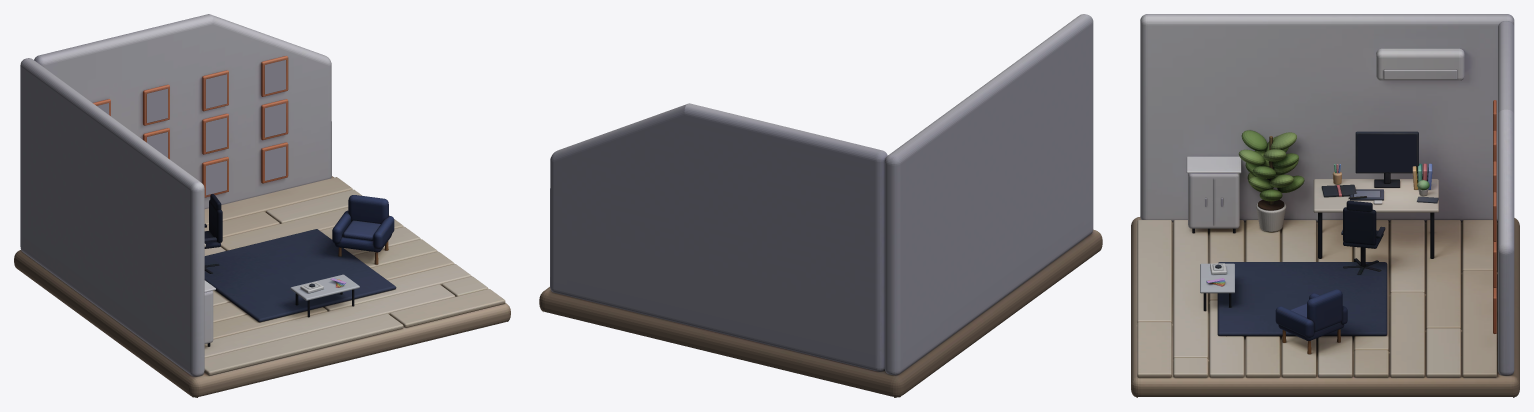
Rendered from diorama.glb.
3 renders of one model, left to right at view 1: azimuth 30°, elevation 25°; view 2: azimuth 150°, elevation 25°; view 3: azimuth 270°, elevation 25°, orthographic. The views are drawn at different scales.
Visible parts, largest first — view 1: wall_l, wall_b, skirt, rug, plank_8_0, plank_9_0, plank_0_1, plank_9_1, plank_2_1, plank_7_1, plank_1_1, plank_6_1 (+20 smaller); view 2: wall_b, wall_l, skirt; view 3: wall_l, skirt, rug, wall_b, plank_8_0, plank_1_0, plank_0_1, plank_9_0, plank_2_1, cab_body, desk_top, plank_2_0 (+28 smaller).
Boxes of the visible parts, x1,y1,x2,y2 form: wall_l: (20, 58, 204, 376); wall_b: (34, 14, 331, 208); skirt: (14, 176, 510, 397); rug: (204, 229, 396, 322); plank_8_0: (204, 284, 455, 357); plank_9_0: (204, 313, 403, 375); plank_0_1: (204, 177, 352, 224); plank_9_1: (389, 289, 505, 327); plank_2_1: (220, 207, 348, 250); plank_7_1: (323, 264, 471, 311); plank_1_1: (266, 189, 362, 223); plank_6_1: (371, 251, 454, 280); wall_b: (550, 103, 887, 371); wall_l: (884, 14, 1093, 375); skirt: (539, 229, 1102, 397); wall_l: (1140, 14, 1514, 222); skirt: (1131, 217, 1519, 397); rug: (1217, 262, 1387, 335); wall_b: (1498, 21, 1514, 375); plank_8_0: (1173, 220, 1207, 358); plank_1_0: (1426, 220, 1460, 328); plank_0_1: (1462, 270, 1496, 377); plank_9_0: (1137, 220, 1171, 322); plank_2_1: (1390, 292, 1424, 377); cab_body: (1188, 173, 1239, 228); desk_top: (1313, 179, 1438, 212); plank_2_0: (1390, 220, 1424, 293).
Size of the model in its own units: 10.7 by 6.68 by 10.55.
Materials: 3 (1 with a texture image).
